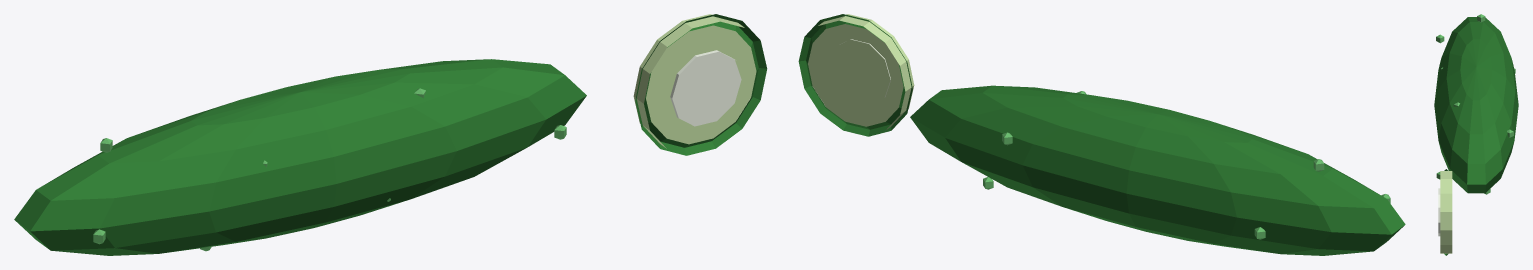
Rendered from gurka.glb.
3 renders of one model, left to right at view 1: azimuth 30°, elevation 25°; view 2: azimuth 150°, elevation 25°; view 3: azimuth 270°, elevation 25°, orthographic. The views are drawn at different scales.
Visible parts, largest first — view 1: gurka; view 2: gurka; view 3: gurka.
Boxes of the visible parts, bbox=[...] form: gurka: bbox=[14, 14, 767, 255]; gurka: bbox=[798, 14, 1405, 255]; gurka: bbox=[1434, 14, 1518, 255].
Size of the model in its own units: 0.806 by 0.1442 by 0.14.
